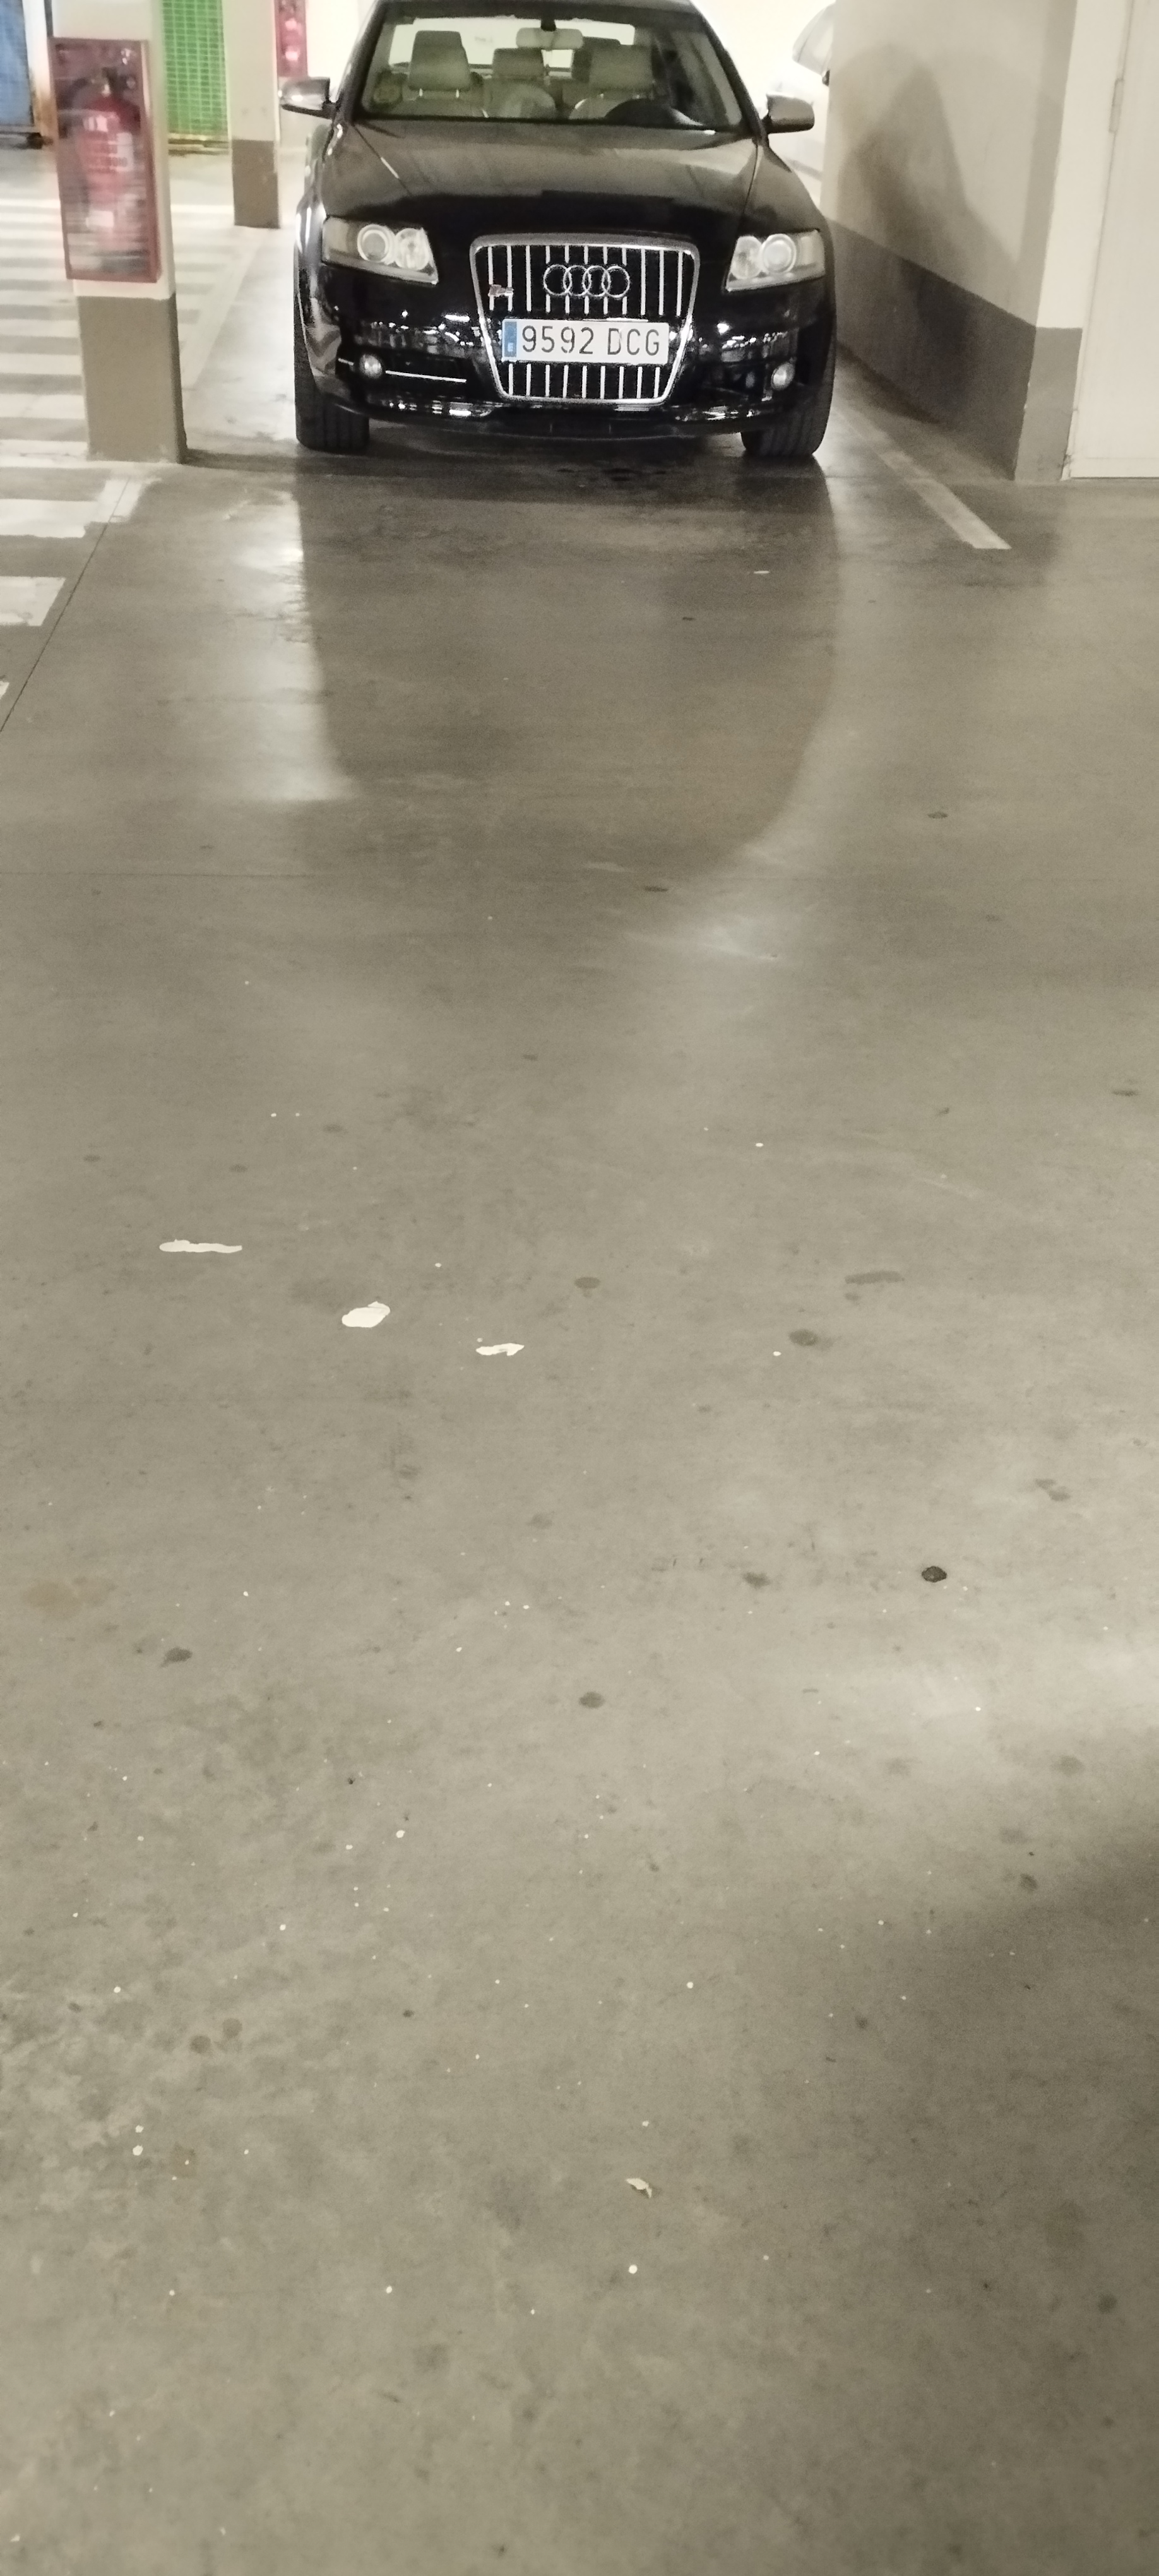Car: (291, 0, 832, 460)
Plate: (497, 314, 667, 365)
